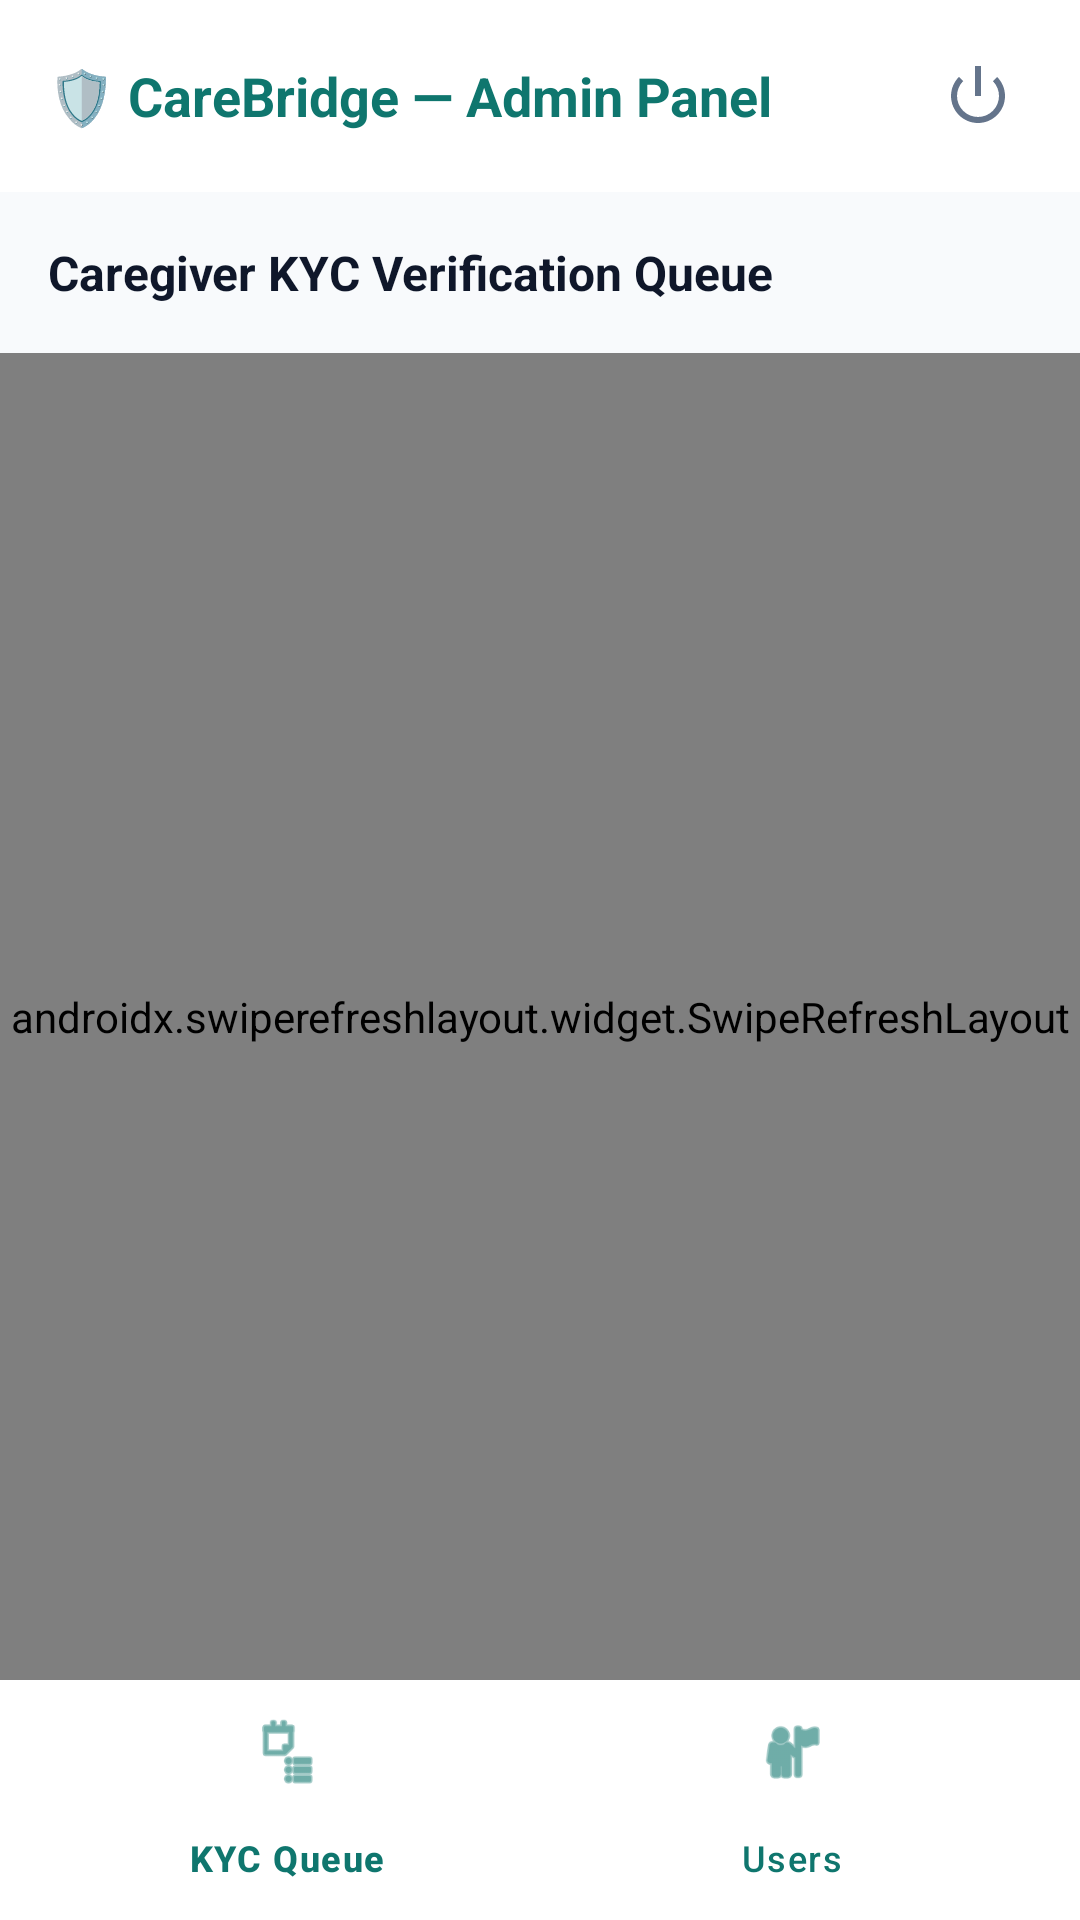

Point at icon controls on the screen. Image size 1080 x 1920, points as (x,y).
lock power off: (978,94)
